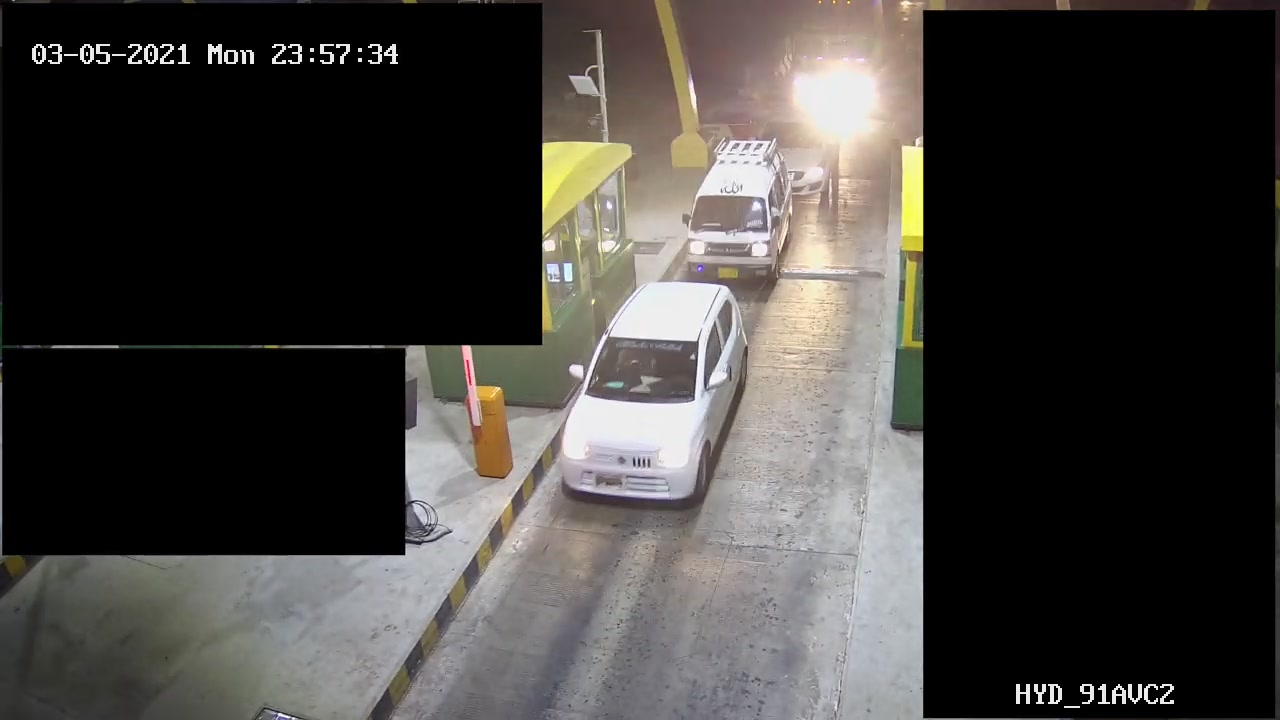F1: (553, 273, 752, 507), (669, 132, 808, 284)
